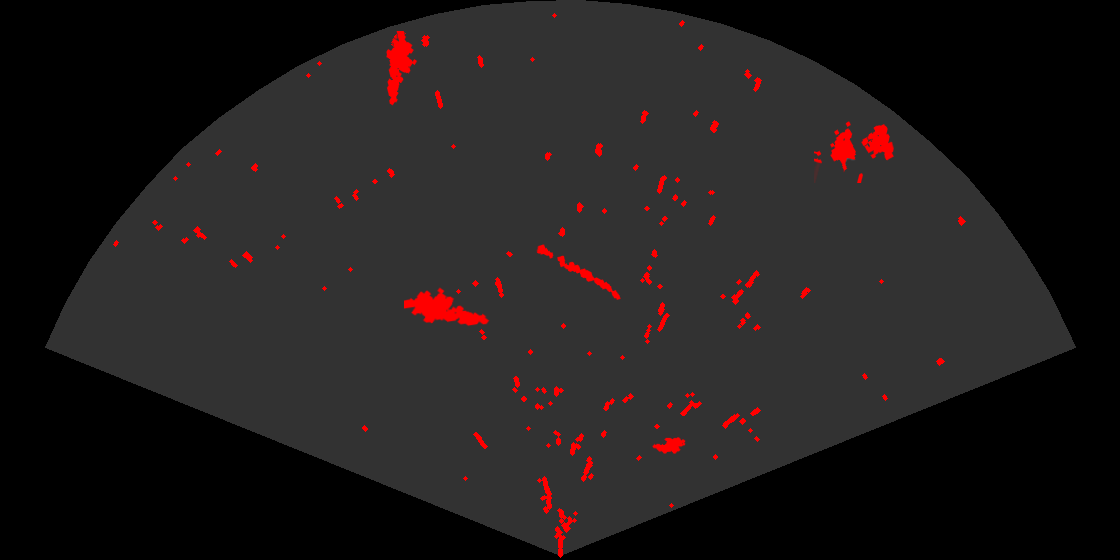AUV: (651, 436, 687, 454)
cage: (814, 120, 896, 183)
chain: (535, 243, 622, 301)
frogman: (404, 286, 490, 328), (385, 31, 419, 107)
